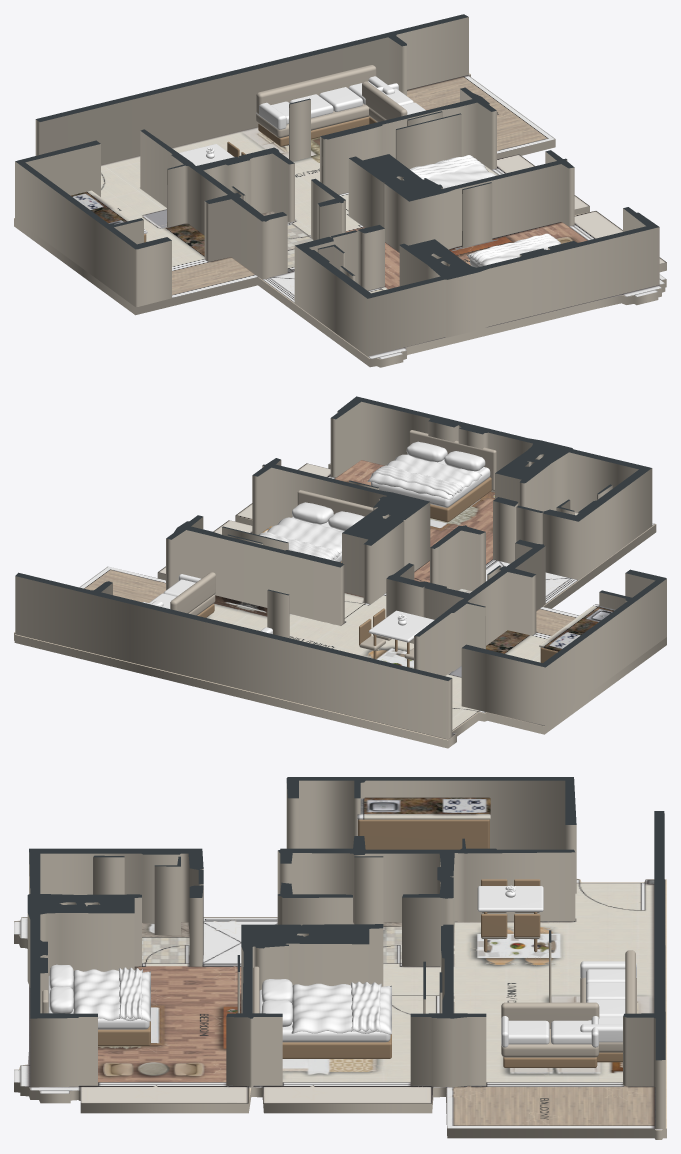
3 views of the same model, one above another, from view 1: azimuth 30°, elevation 25°; view 2: azimuth 150°, elevation 25°; view 3: azimuth 270°, elevation 25° (orthographic). The views are drawn at different scales.
Parts seen in each view (by area): view 1: Partition walls, Apartment floor, Sofa back, Upholstered sofa frame, Draped bed linen.003, Sofa back.001, Stone worktop, Draped bed linen, Draped bed linen.001, Sofa plinth, Seat cushion.002, Marble dining top; view 2: Partition walls, Apartment floor, Draped bed linen.002, Draped bed linen, Stone worktop, Marble dining top, Upholstered headboard.001, Sofa back.001, Piped mattress.001, Walnut upholstered base.001, Draped bed linen.003, Upholstered headboard (+4 smaller); view 3: Partition walls, Apartment floor, Kitchen cabinets, Draped bed linen, Stone worktop, Draped bed linen.002, Walnut upholstered base, Sofa back.001, Marble dining top, Draped bed linen.001, Upholstered sofa frame.001, Piped mattress (+16 smaller).
Boxes of the visible parts, x1,y1,x2,y2 form: Partition walls: (15,14,659,356); Apartment floor: (14,73,666,367); Sofa back: (256,65,376,113); Upholstered sofa frame: (256,104,369,138); Draped bed linen.003: (469,233,560,264); Sofa back.001: (362,81,407,119); Stone worktop: (71,190,147,233); Draped bed linen: (409,156,495,188); Draped bed linen.001: (410,155,485,179); Sofa plinth: (258,116,369,146); Seat cushion.002: (319,87,362,111); Marble dining top: (179,144,234,165); Partition walls: (15,396,666,739); Apartment floor: (14,460,666,748); Draped bed linen.002: (367,454,481,499); Draped bed linen: (267,517,344,559); Stone worktop: (539,604,615,651); Marble dining top: (368,610,434,642); Upholstered headboard.001: (409,430,496,490); Sofa back.001: (170,572,215,613); Piped mattress.001: (371,454,490,507); Walnut upholstered base.001: (430,477,491,522); Draped bed linen.003: (371,465,462,496); Upholstered headboard: (297,490,373,516); Partition walls: (27,777,665,1128); Apartment floor: (14,878,666,1139); Kitchen cabinets: (358,819,489,849); Draped bed linen: (291,983,391,1034); Stone worktop: (357,797,490,819); Draped bed linen.002: (73,969,150,1021); Walnut upholstered base: (282,1034,391,1058); Sofa back.001: (501,1002,599,1028); Marble dining top: (477,886,543,911); Draped bed linen.001: (350,981,381,1032); Upholstered sofa frame.001: (501,1028,599,1057); Piped mattress: (259,989,390,1042).
Size of the model in its own units: 10.12 by 1.3 by 9.82.
Materials: 10 (1 with a texture image).
